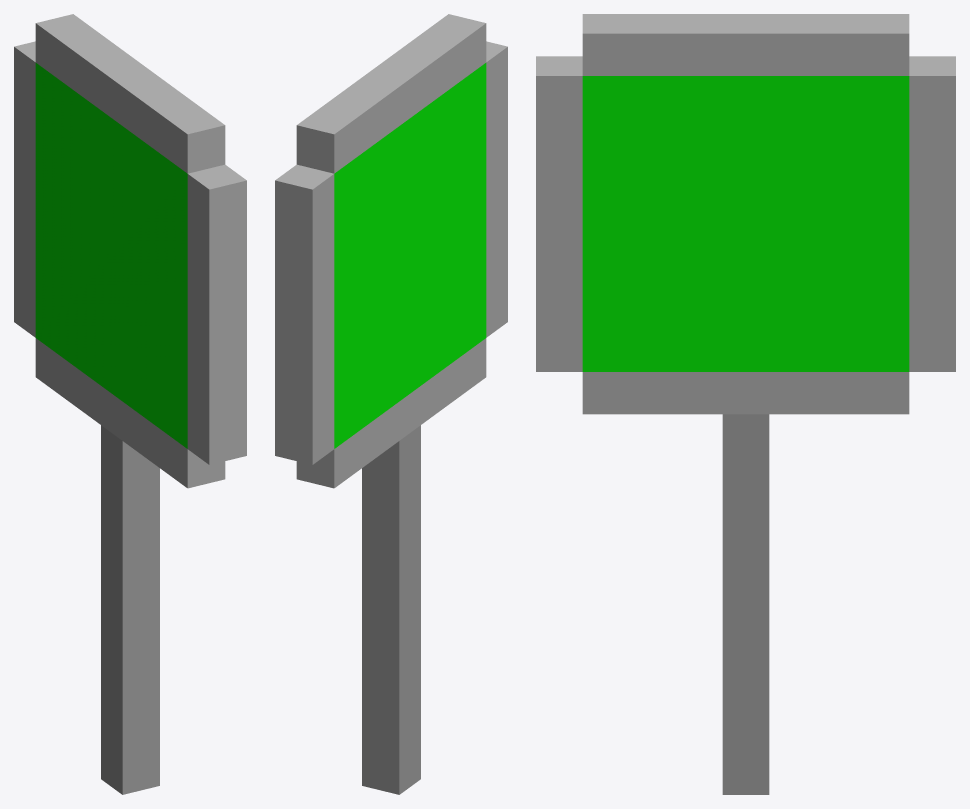
The model's file is Green.obj.
3 renders of one model, left to right at view 1: azimuth 30°, elevation 25°; view 2: azimuth 150°, elevation 25°; view 3: azimuth 270°, elevation 25°, orthographic. The views are drawn at different scales.
Bounding box in the file's own units: 1 × 18 × 9.
Materials: 1 (1 with a texture image).
